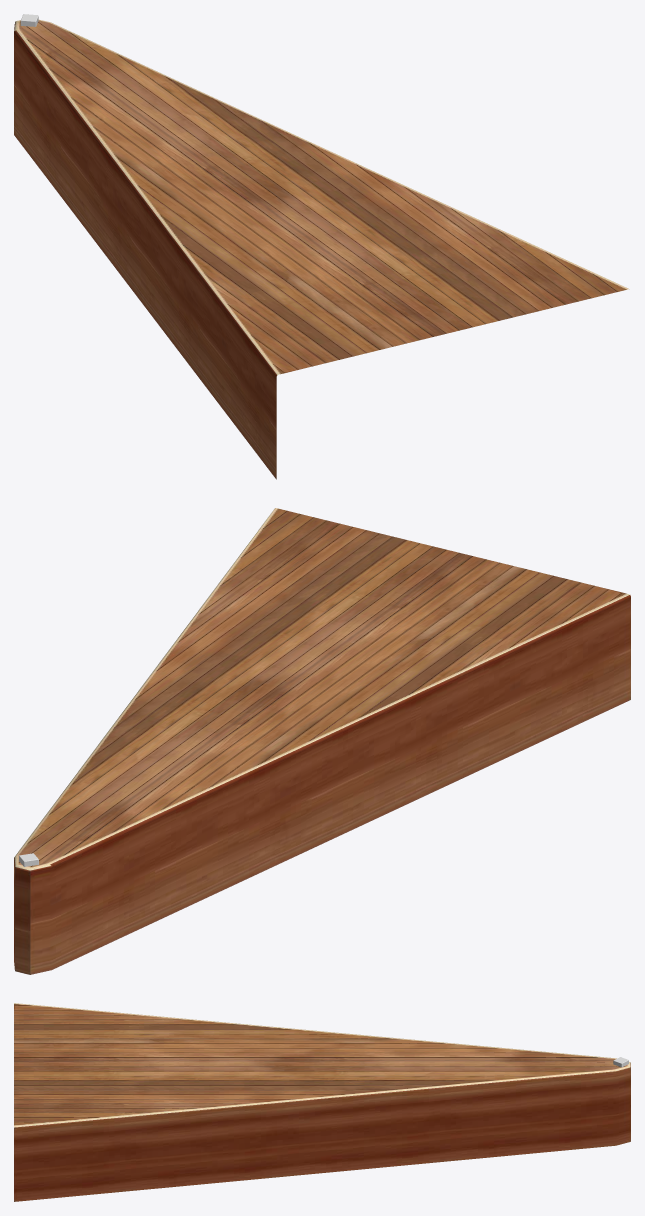
File: Boat_03.glb
3 renders of one model, top to bottom at view 1: azimuth 30°, elevation 25°; view 2: azimuth 150°, elevation 25°; view 3: azimuth 270°, elevation 25°, orthographic. The views are drawn at different scales.
Visible parts, largest first — view 1: Bateau; view 2: Bateau; view 3: Bateau.
Boxes of the visible parts, x1,y1,x2,y2 form: Bateau: [14, 14, 629, 479]; Bateau: [14, 508, 630, 974]; Bateau: [14, 1003, 630, 1201].
Bounding box in the file's own units: 3.3 × 0.9769 × 6.91.
Materials: 1 (1 with a texture image).
